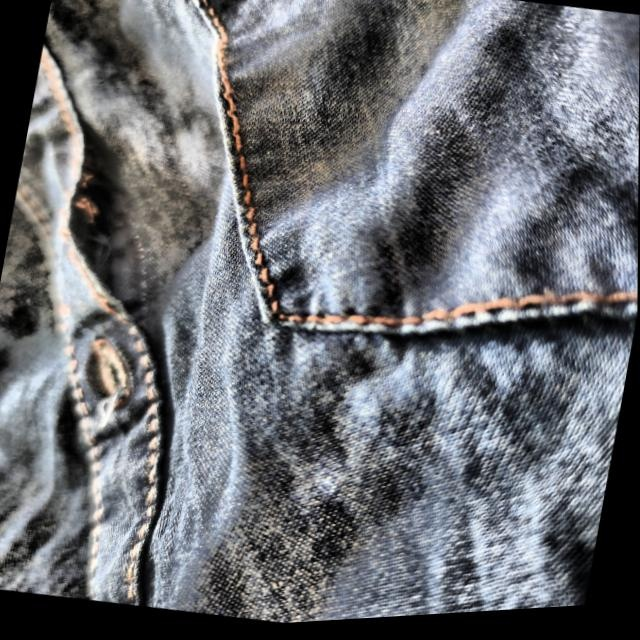seam: (16, 94, 189, 350)
